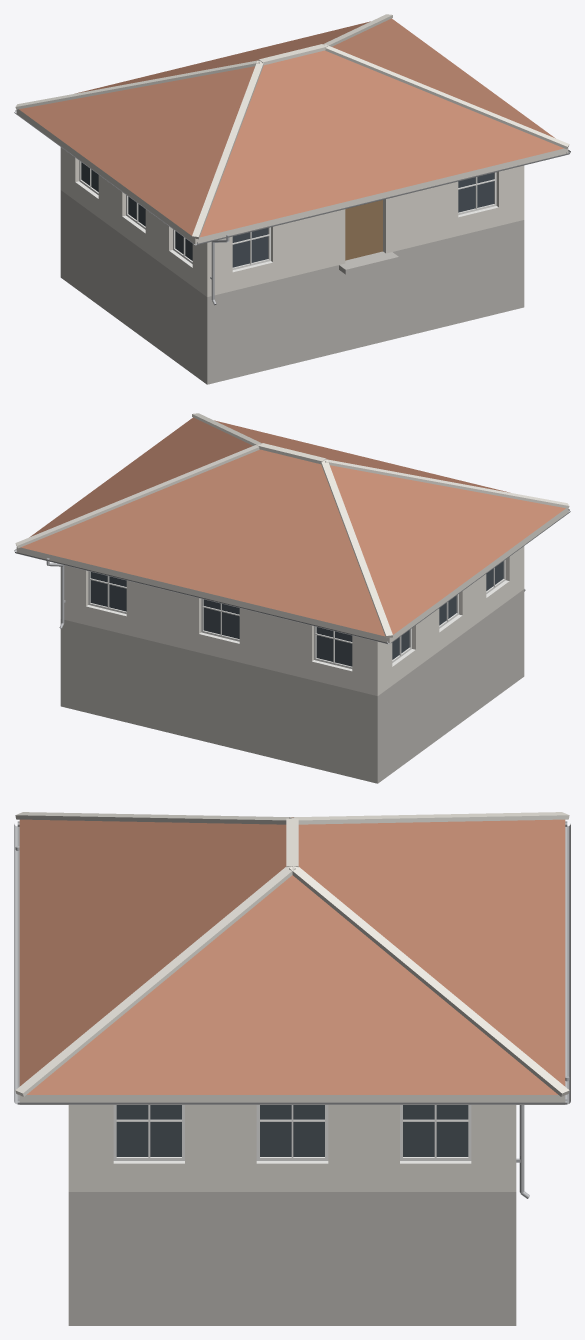
The model's file is tropical_hipped_1_m.glb.
3 views of the same model, one above another, from view 1: azimuth 30°, elevation 25°; view 2: azimuth 150°, elevation 25°; view 3: azimuth 270°, elevation 25° (orthographic). The views are drawn at different scales.
Visible parts, largest first — view 1: tropical_hipped_1_m; view 2: tropical_hipped_1_m; view 3: tropical_hipped_1_m.
Boxes of the visible parts, box(x1,y1,x2,y2) form: tropical_hipped_1_m: box(14, 14, 570, 384); tropical_hipped_1_m: box(14, 413, 570, 783); tropical_hipped_1_m: box(14, 812, 570, 1325).
Bounding box in the file's own units: 14.89 × 9.02 × 12.45.
